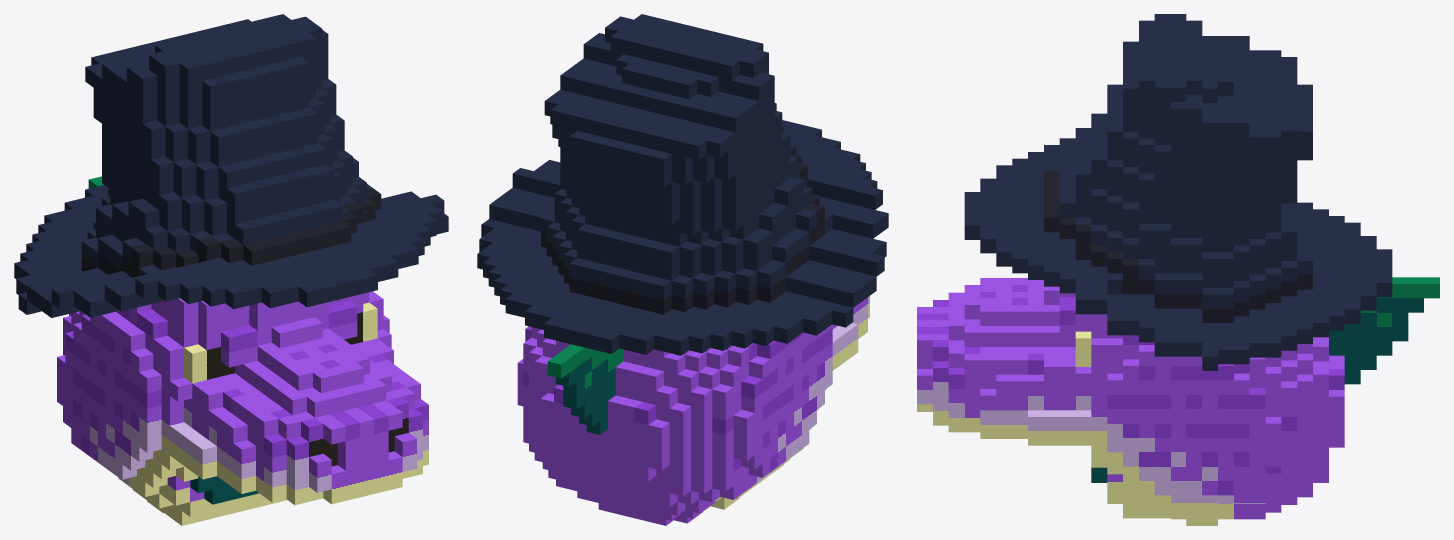
File: top hat_red glasses.gltf
The picture shows the model from 3 angles, left to right: view 1: azimuth 30°, elevation 25°; view 2: azimuth 150°, elevation 25°; view 3: azimuth 270°, elevation 25°; orthographic projection. The views are drawn at different scales.
Parts seen in each view (by area): view 1: C54_H_TopH_RedG_RBSpec_SkyD_LazerL-Mesh; view 2: C54_H_TopH_RedG_RBSpec_SkyD_LazerL-Mesh; view 3: C54_H_TopH_RedG_RBSpec_SkyD_LazerL-Mesh.
Boxes of the visible parts, x1,y1,x2,y2 form: C54_H_TopH_RedG_RBSpec_SkyD_LazerL-Mesh: (14,14,448,525); C54_H_TopH_RedG_RBSpec_SkyD_LazerL-Mesh: (477,14,888,525); C54_H_TopH_RedG_RBSpec_SkyD_LazerL-Mesh: (917,14,1439,525).
Size of the model in its own units: 27 by 31 by 33.
1 material, 1 textured.
